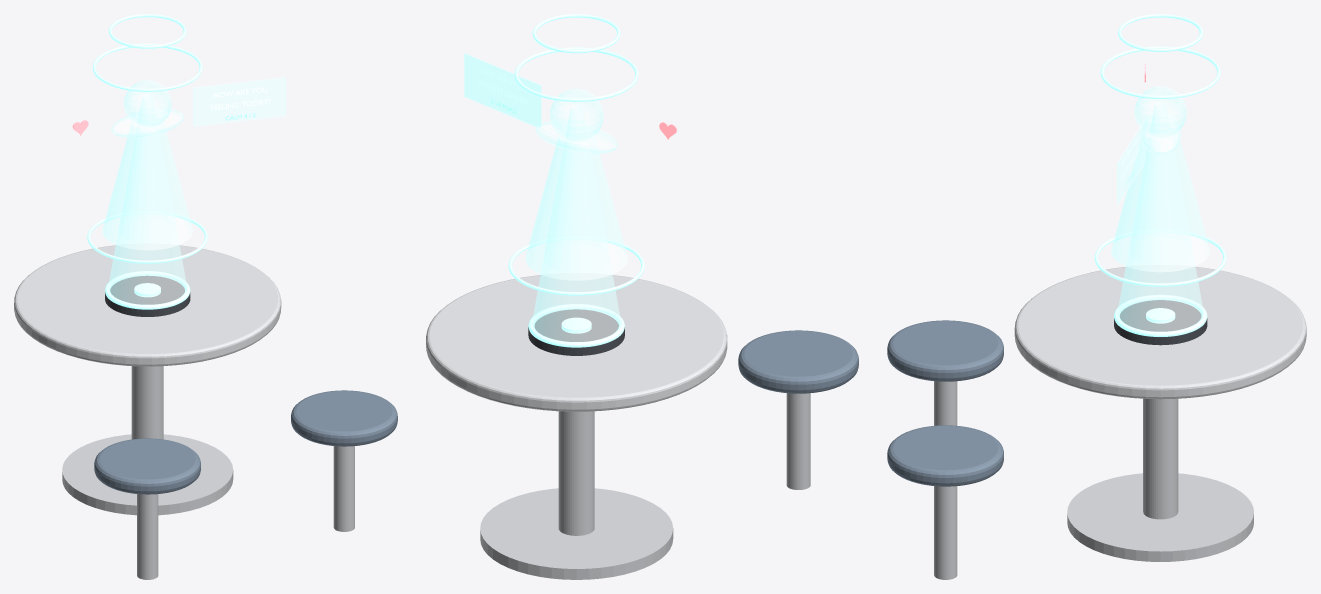
The model's file is hologram_companion.glb.
The picture shows the model from 3 angles, left to right: view 1: azimuth 30°, elevation 25°; view 2: azimuth 150°, elevation 25°; view 3: azimuth 270°, elevation 25°; orthographic projection. The views are drawn at different scales.
Parts seen in each view (by area): view 1: Table_Top, Light_Cone, Counsellor_Torso, Table_Foot, Stool_Seat.001, Stool_Seat, Holo_Card, Table_Pedestal, Projector_Base, Stool_Post, Stool_Post.001, Counsellor_Head (+5 smaller); view 2: Table_Top, Table_Foot, Light_Cone, Counsellor_Torso, Stool_Seat, Table_Pedestal, Holo_Card, Projector_Base, Stool_Post, Counsellor_Head, Counsellor_Neck, Projector_Ring (+3 smaller); view 3: Table_Top, Table_Foot, Light_Cone, Counsellor_Torso, Stool_Seat, Stool_Seat.001, Table_Pedestal, Projector_Base, Stool_Post.001, Counsellor_Head, Holo_Card, Projector_Ring (+5 smaller).
Part boxes in pixels (box(x1,y1,x2,y2)): Table_Top: box(14, 244, 281, 366); Light_Cone: box(108, 95, 186, 304); Counsellor_Torso: box(102, 122, 192, 250); Table_Foot: box(62, 434, 233, 515); Stool_Seat.001: box(291, 390, 397, 446); Stool_Seat: box(94, 438, 200, 494); Holo_Card: box(193, 77, 286, 126); Table_Pedestal: box(131, 366, 163, 439); Projector_Base: box(105, 276, 190, 316); Stool_Post: box(137, 494, 158, 579); Stool_Post.001: box(333, 446, 354, 531); Counsellor_Head: box(123, 80, 171, 127); Table_Top: box(426, 273, 727, 411); Table_Foot: box(480, 488, 673, 579); Light_Cone: box(532, 105, 620, 341); Counsellor_Torso: box(525, 136, 627, 280); Stool_Seat: box(738, 330, 858, 393); Table_Pedestal: box(558, 411, 594, 535); Holo_Card: box(464, 53, 541, 128); Projector_Base: box(528, 309, 624, 355); Stool_Post: box(786, 393, 810, 489); Counsellor_Head: box(549, 88, 603, 142); Counsellor_Neck: box(535, 121, 617, 154); Projector_Ring: box(528, 304, 624, 347); Table_Top: box(1014, 265, 1306, 399); Table_Foot: box(1067, 473, 1253, 561); Light_Cone: box(1117, 102, 1203, 331); Counsellor_Torso: box(1111, 132, 1210, 272); Stool_Seat: box(887, 320, 1003, 381); Stool_Seat.001: box(887, 425, 1003, 486); Table_Pedestal: box(1143, 398, 1178, 519); Projector_Base: box(1114, 300, 1207, 345); Stool_Post.001: box(934, 486, 957, 579); Counsellor_Head: box(1134, 86, 1186, 138); Holo_Card: box(1117, 120, 1145, 204); Projector_Ring: box(1114, 295, 1207, 336).
Bounding box in the file's own units: 1.25 × 1.86 × 1.44.
